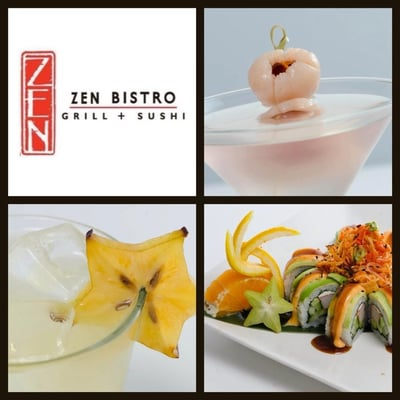taco: (204, 269, 271, 317)
